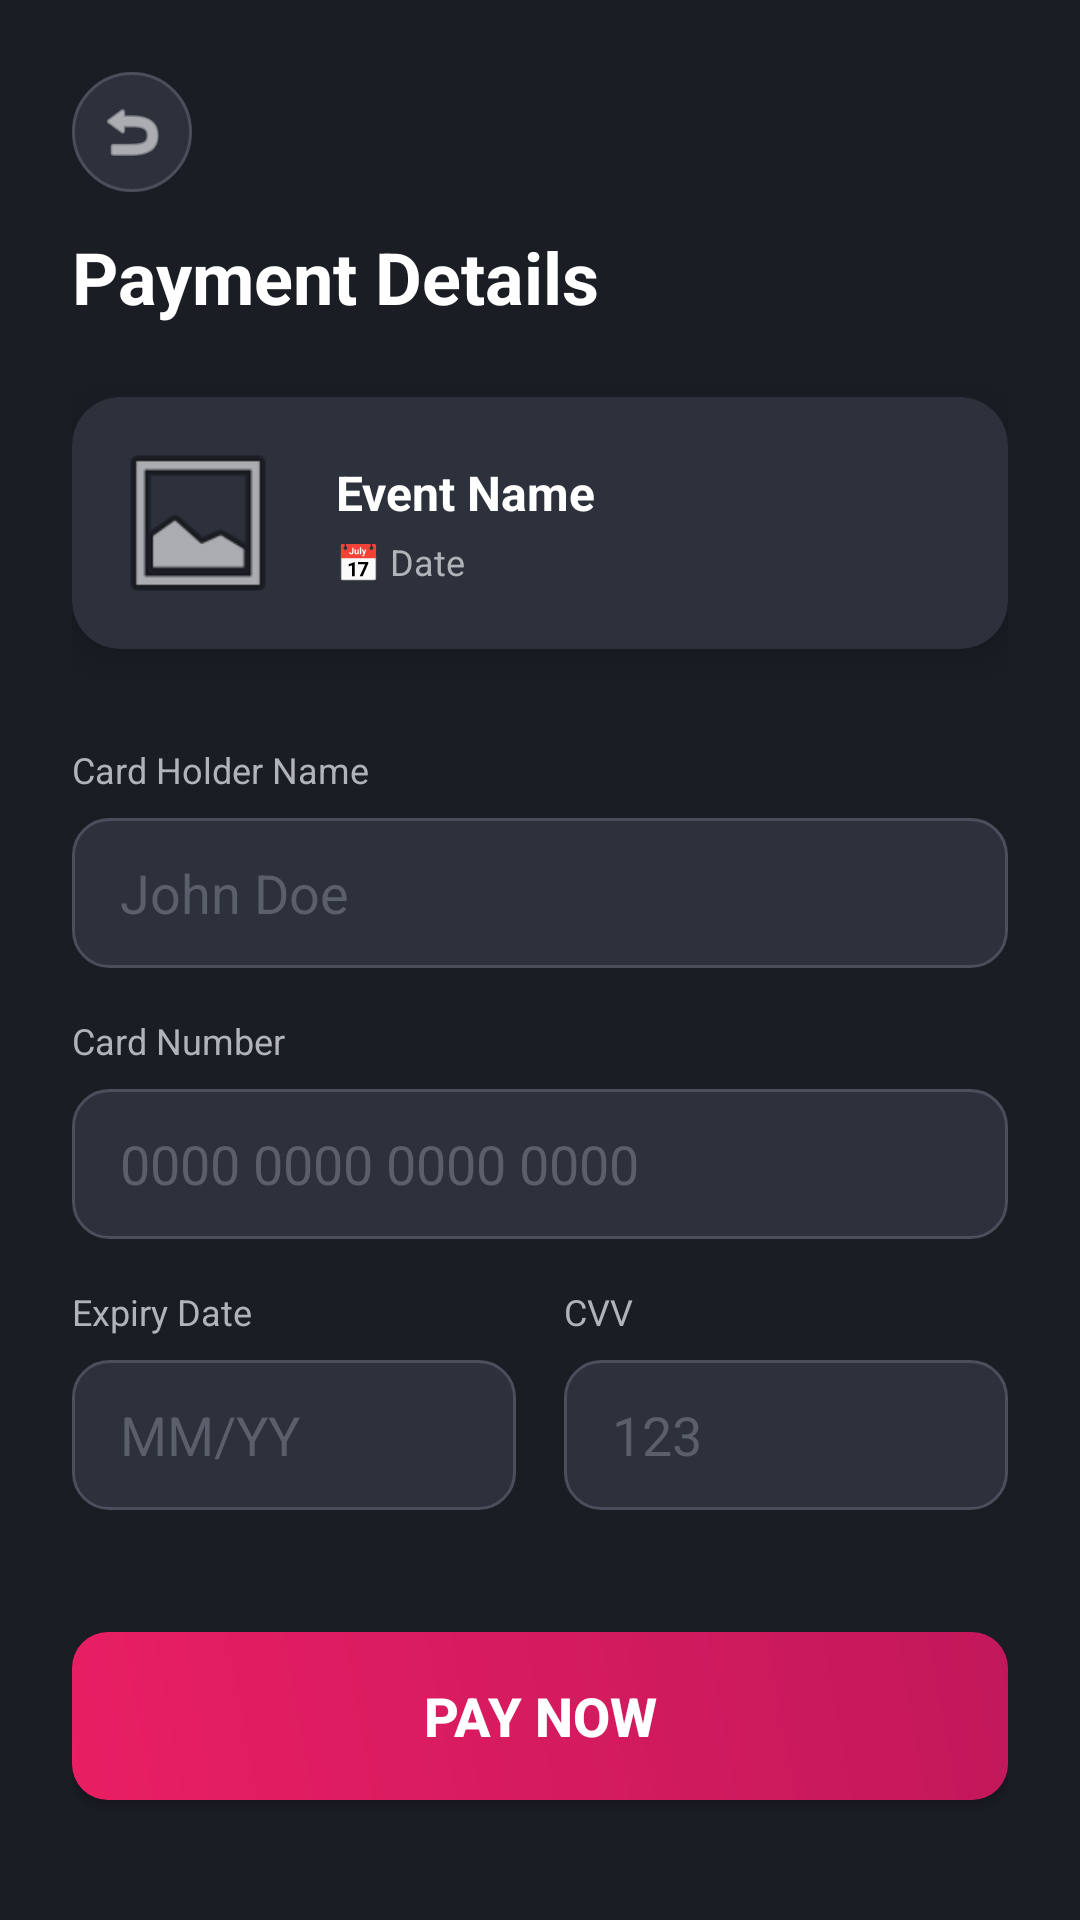

Icons on this 1080×1920 Android screen, each with the point to tap as (x=x, y=y):
gallery: (x=198, y=523)
revert: (x=132, y=132)
